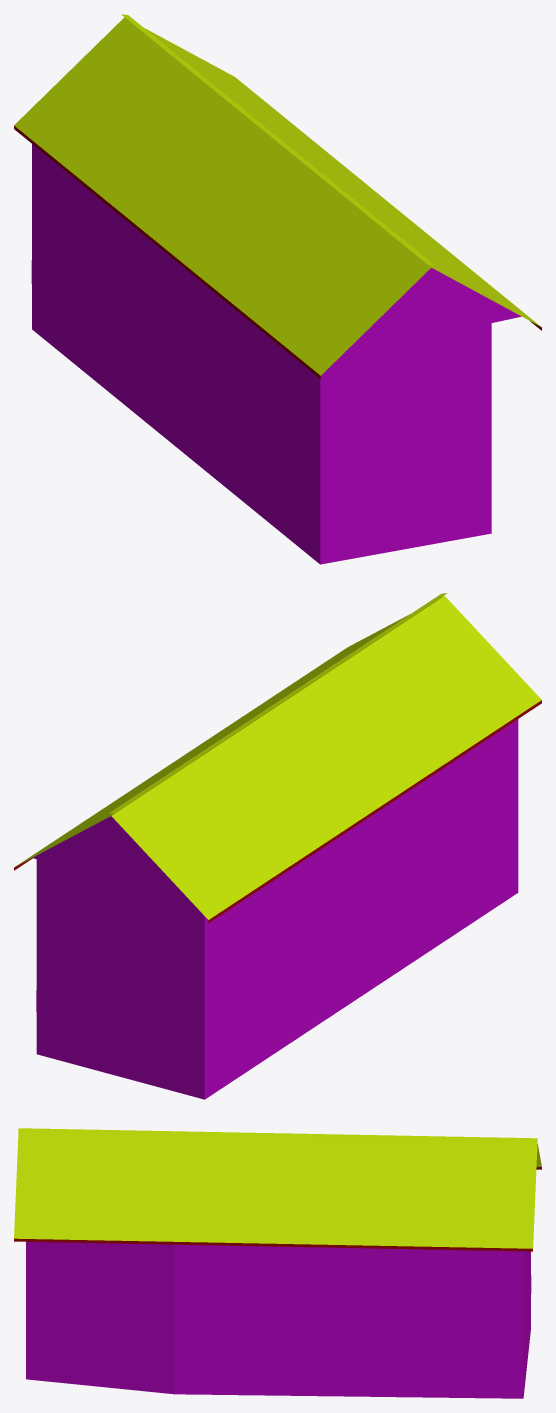
3 views of the same model, one above another, from view 1: azimuth 30°, elevation 25°; view 2: azimuth 150°, elevation 25°; view 3: azimuth 270°, elevation 25° (orthographic). The views are drawn at different scales.
Visible parts, largest first — view 1: sc_104; view 2: sc_104; view 3: sc_104.
Part boxes in pixels (x1,y1,x2,y2): sc_104: (14,14,541,564); sc_104: (14,593,541,1099); sc_104: (14,1128,541,1398).
Bounding box in the file's own units: 8.43 × 9.62 × 20.45.
